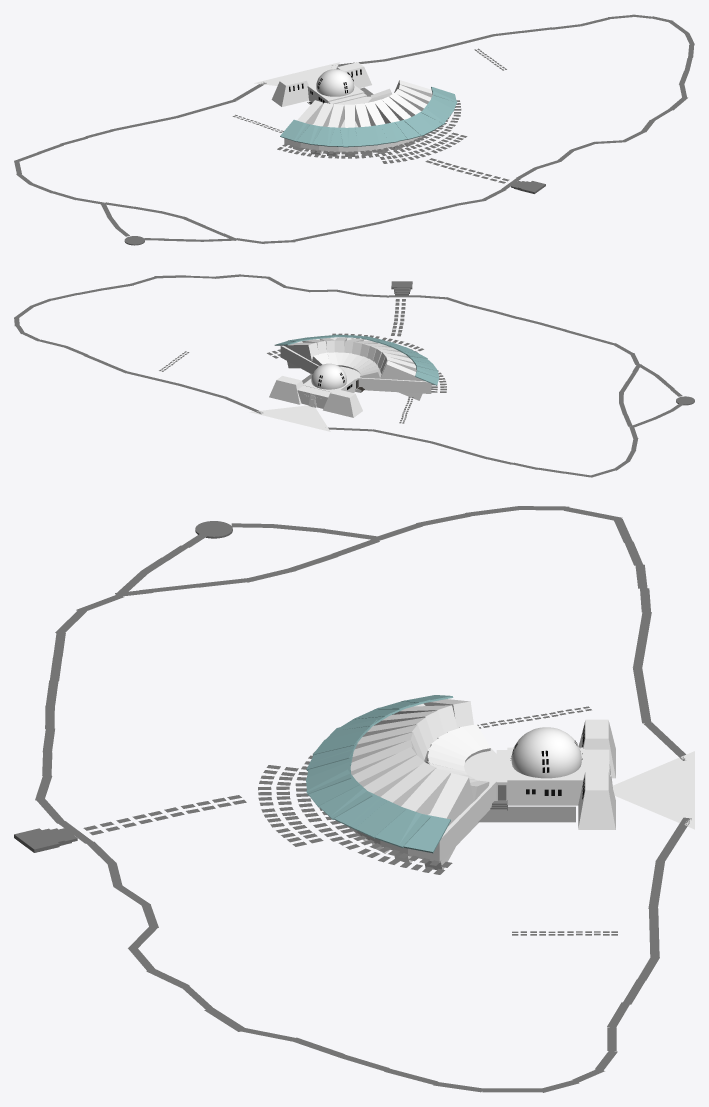
Rendered from asmundarsafn_nyasta_utgafa_8.4_12.41.obj.
The picture shows the model from 3 angles, top to bottom: view 1: azimuth 30°, elevation 25°; view 2: azimuth 150°, elevation 25°; view 3: azimuth 270°, elevation 25°; orthographic projection. The views are drawn at different scales.
Visible parts, largest first — view 1: der_yfir_thaki, thak, gangstett_i_kringum_hring, syningarsalur, Sphere, h_hlid, Plane.001, Plane, v_hlid, innanhus; view 2: thak, syningarsalur, der_yfir_thaki, Plane, h_hlid, Sphere, v_hlid, Plane.001, adaldyr, gangstett_i_kringum_hring; view 3: thak, der_yfir_thaki, Plane, gangstett_i_kringum_hring, Plane.001, syningarsalur, Sphere, innanhus, v_hlid, h_hlid, gangstett_ad_vatnsbera.
Boxes of the visible parts, <box> form: der_yfir_thaki: <box>280,86,457,147</box>; thak: <box>293,80,432,156</box>; gangstett_i_kringum_hring: <box>277,100,467,163</box>; syningarsalur: <box>284,96,428,152</box>; Sphere: <box>316,69,354,96</box>; h_hlid: <box>271,76,308,106</box>; Plane.001: <box>124,87,545,245</box>; Plane: <box>254,62,339,85</box>; v_hlid: <box>336,62,371,88</box>; innanhus: <box>307,83,364,103</box>; thak: <box>284,337,424,400</box>; syningarsalur: <box>280,337,431,393</box>; der_yfir_thaki: <box>274,334,439,385</box>; Plane: <box>249,405,330,431</box>; h_hlid: <box>323,389,362,417</box>; Sphere: <box>311,363,346,389</box>; v_hlid: <box>269,376,303,404</box>; Plane.001: <box>302,281,694,405</box>; adaldyr: <box>297,385,330,408</box>; gangstett_i_kringum_hring: <box>267,333,446,392</box>; thak: <box>350,699,490,869</box>; der_yfir_thaki: <box>306,695,453,853</box>; Plane: <box>612,751,694,829</box>; gangstett_i_kringum_hring: <box>258,752,452,874</box>; Plane.001: <box>14,521,575,852</box>; syningarsalur: <box>349,703,496,862</box>; Sphere: <box>511,727,581,778</box>; innanhus: <box>507,747,584,805</box>; v_hlid: <box>578,771,615,829</box>; h_hlid: <box>578,719,615,778</box>; gangstett_ad_vatnsbera: <box>83,795,246,835</box>.
Bounding box in the file's own units: 148 × 8.94 × 72.34.
